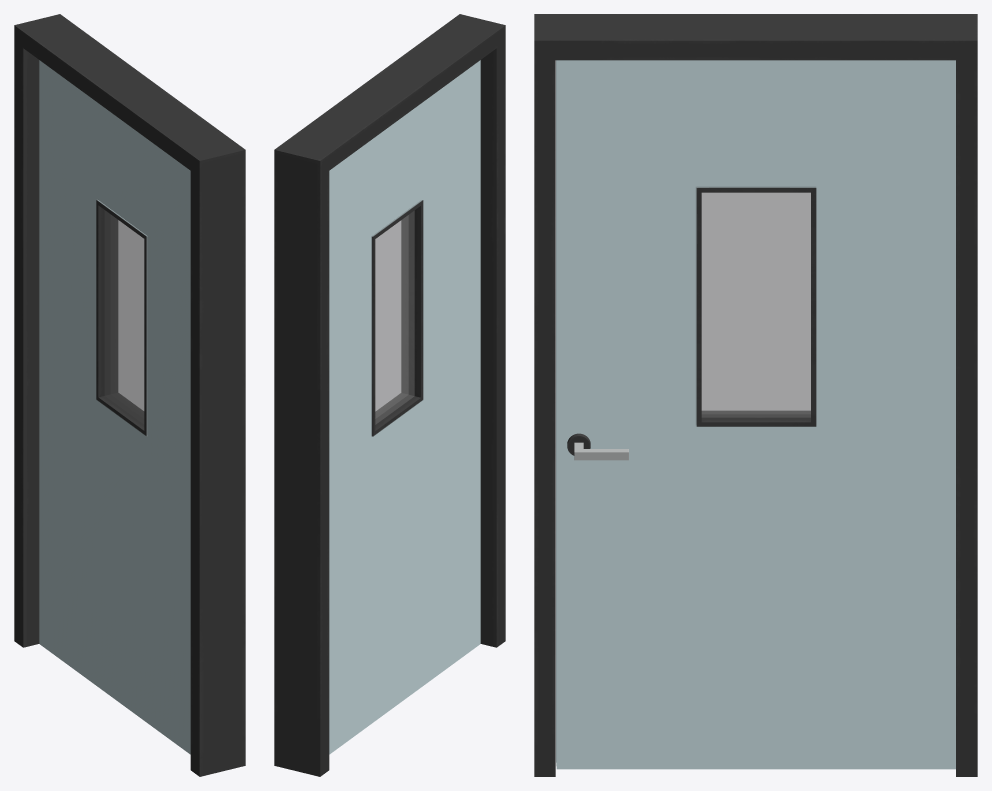
The model's file is SingleDoor.fbx.
The picture shows the model from 3 angles, left to right: view 1: azimuth 30°, elevation 25°; view 2: azimuth 150°, elevation 25°; view 3: azimuth 270°, elevation 25°; orthographic projection. The views are drawn at different scales.
Parts seen in each view (by area): view 1: SingleDoor; view 2: SingleDoor; view 3: SingleDoor.
Boxes of the visible parts, x1=… form: SingleDoor: x1=14, y1=14, x2=245, y2=776; SingleDoor: x1=274, y1=14, x2=505, y2=776; SingleDoor: x1=534, y1=14, x2=977, y2=776.
Bounding box in the file's own units: 20.19 × 215 × 117.
